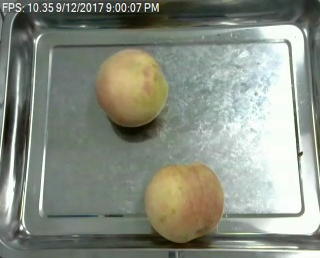Peach: (145, 161, 224, 244), (94, 45, 168, 128)
